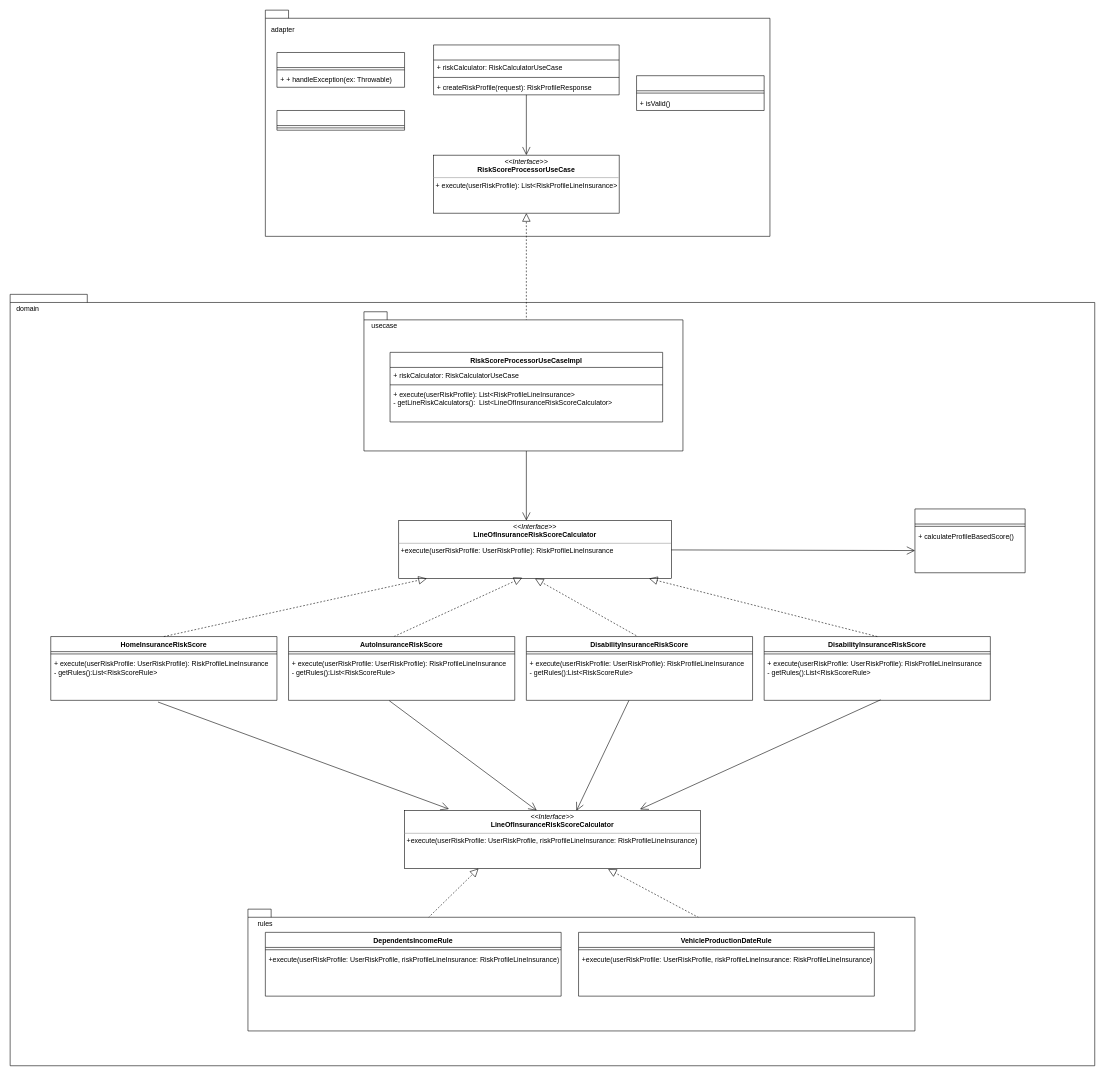
This 1105x1076 diagram has some shape labels left out. Here are the shapes that lost their labels. From the top down, the box of each, then its label:
(276, 52, 405, 87): ExceptionHandler
(433, 44, 619, 95): InsuranceAdvisorController
(636, 75, 764, 110): BooleanAnswerConstraint
(276, 110, 405, 130): ErrorResponse
(914, 508, 1025, 573): RiskProfileLineInsurance
